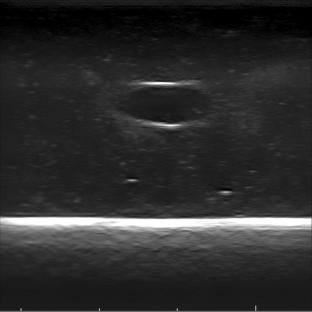vessel: (118, 79, 212, 131)
